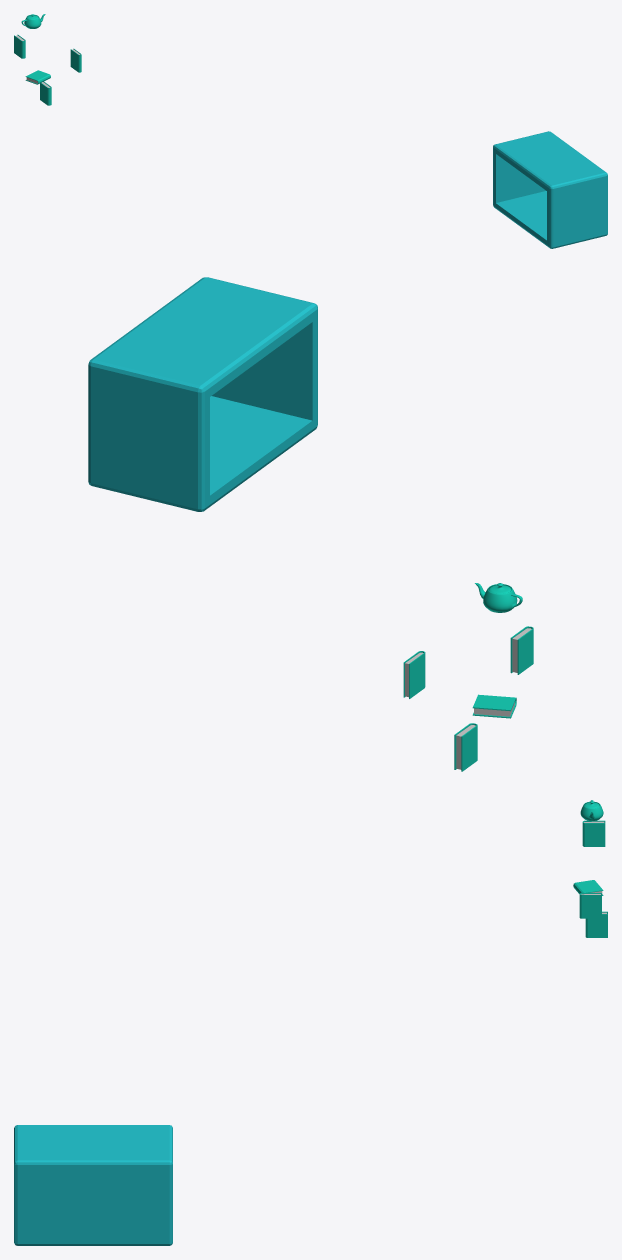
Rendered from room_escape_new_light_blue.obj.
3 views of the same model, one above another, from view 1: azimuth 30°, elevation 25°; view 2: azimuth 150°, elevation 25°; view 3: azimuth 270°, elevation 25° (orthographic). The views are drawn at different scales.
Visible parts, largest first — view 1: Grid.003_blue; view 2: Grid.003_blue, Teapot_qing_book, Cube.021_qing_book, Cube.010_qing_book, Cube.035_qing_book, Cube.027_qing_book; view 3: Grid.003_blue, Cube.021_qing_book.
Part boxes in pixels (x1,y1,x2,y2): Grid.003_blue: [493, 131, 607, 248]; Grid.003_blue: [88, 277, 317, 511]; Teapot_qing_book: [475, 583, 522, 612]; Cube.021_qing_book: [510, 626, 533, 674]; Cube.010_qing_book: [454, 723, 477, 771]; Cube.035_qing_book: [403, 651, 425, 698]; Cube.027_qing_book: [472, 694, 516, 718]; Grid.003_blue: [14, 1125, 172, 1245]; Cube.021_qing_book: [582, 820, 605, 846].
Bounding box in the file's own units: 6.91 × 2.69 × 6.99.
